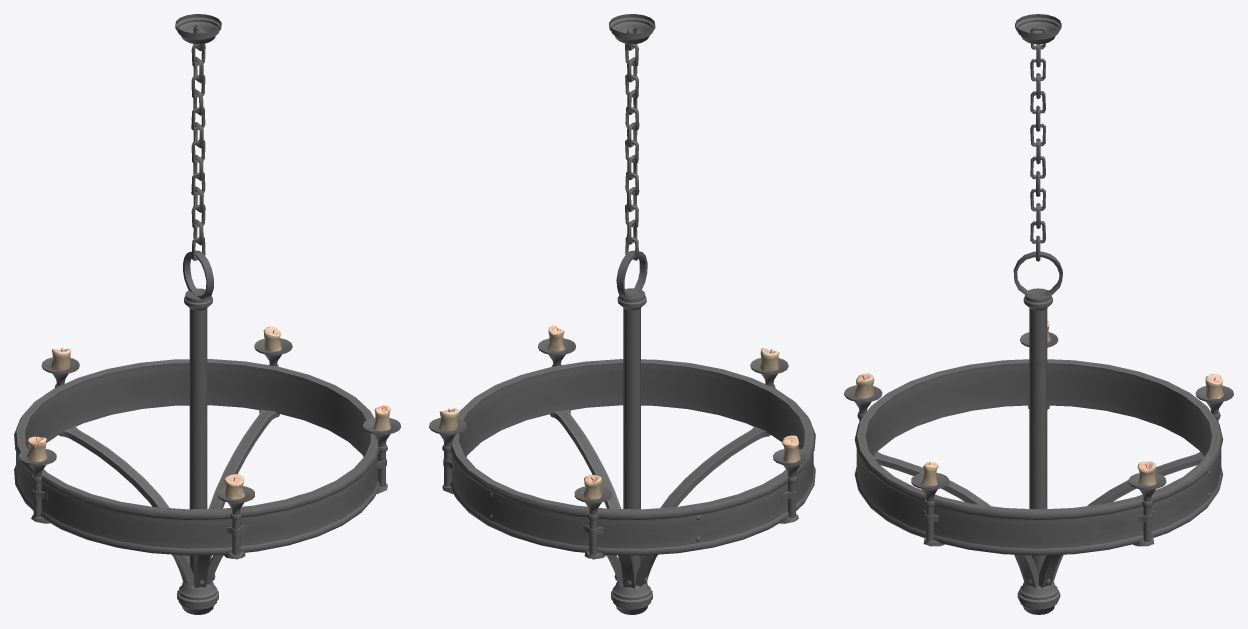
The model's file is SM_Chandelier_01.fbx.
3 views of the same model, side by side, from view 1: azimuth 30°, elevation 25°; view 2: azimuth 150°, elevation 25°; view 3: azimuth 270°, elevation 25° (orthographic).
Visible parts, largest first — view 1: SM_Chandelier_01_LOD0; view 2: SM_Chandelier_01_LOD0; view 3: SM_Chandelier_01_LOD0.
Boxes of the visible parts, x1,y1,x2,y2 form: SM_Chandelier_01_LOD0: (14,14,400,614); SM_Chandelier_01_LOD0: (429,14,815,614); SM_Chandelier_01_LOD0: (844,14,1233,614).
Size of what is drawn, in the model's own units: 1.32 by 2.2 by 1.33.
